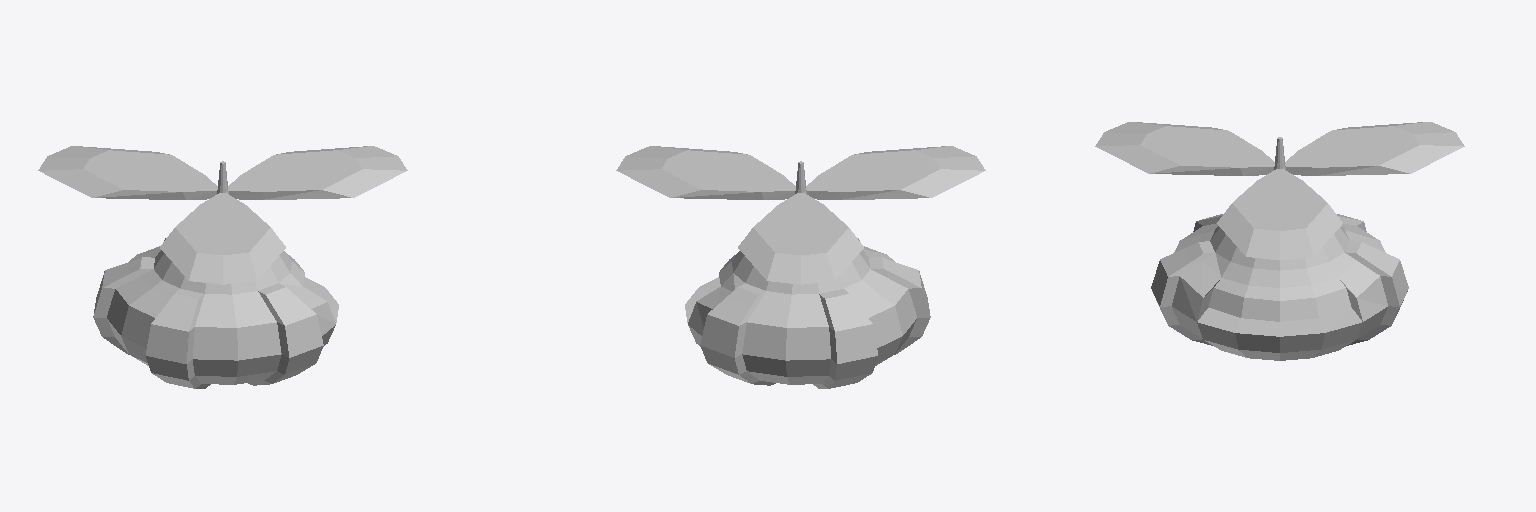
Rendered from DroneKamikaz001.obj.
The picture shows the model from 3 angles: view 1: azimuth 30°, elevation 25°; view 2: azimuth 150°, elevation 25°; view 3: azimuth 270°, elevation 25°; orthographic projection.
Parts seen in each view (by area): view 1: DroneKamikaz_Sphere, Helix_Circle; view 2: DroneKamikaz_Sphere, Helix_Circle; view 3: DroneKamikaz_Sphere, Helix_Circle.
Boxes of the visible parts, x1=… form: DroneKamikaz_Sphere: x1=93, y1=238, x2=338, y2=388; Helix_Circle: x1=38, y1=146, x2=407, y2=284; DroneKamikaz_Sphere: x1=685, y1=238, x2=930, y2=388; Helix_Circle: x1=616, y1=146, x2=985, y2=284; DroneKamikaz_Sphere: x1=1151, y1=214, x2=1408, y2=360; Helix_Circle: x1=1095, y1=122, x2=1464, y2=260.
Bounding box in the file's own units: 2.8 × 1.91 × 3.15.